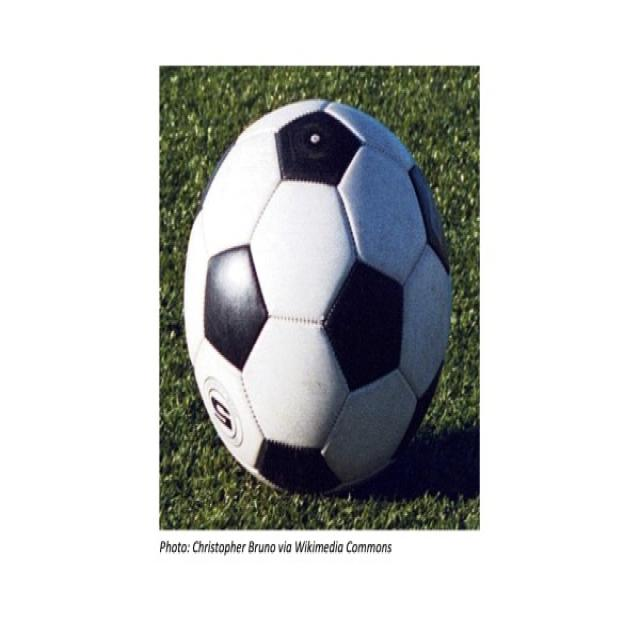soccer ball: (187, 99, 450, 504)
